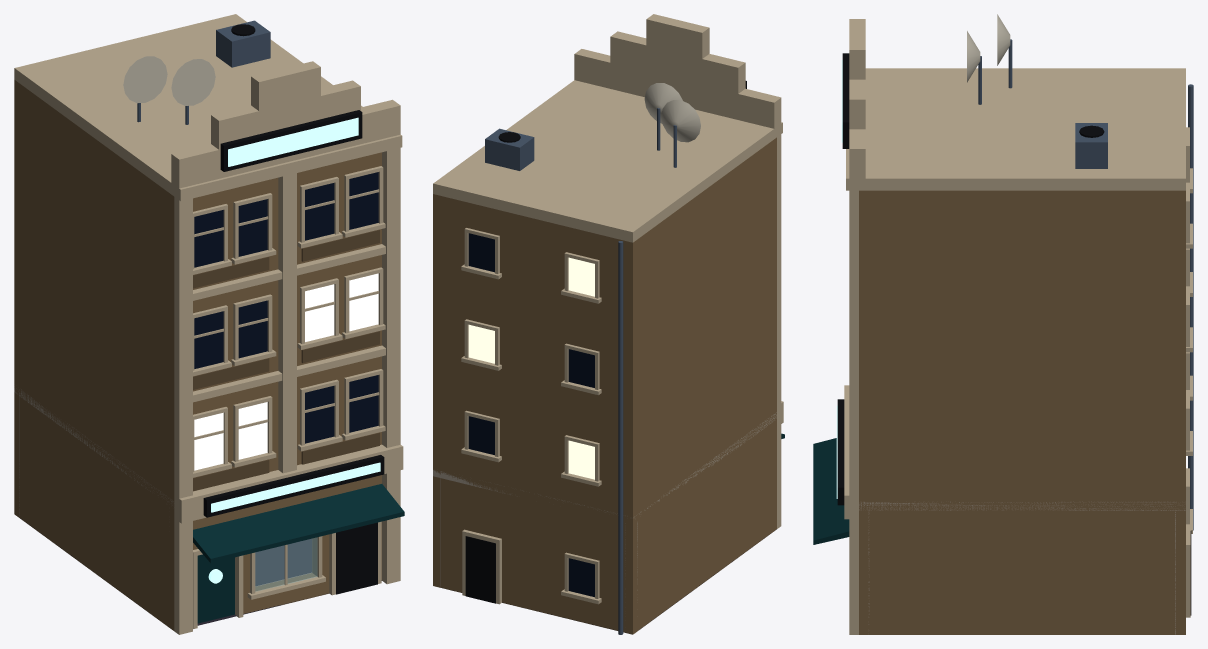
File: row_step.glb
3 renders of one model, left to right at view 1: azimuth 30°, elevation 25°; view 2: azimuth 150°, elevation 25°; view 3: azimuth 270°, elevation 25°, orthographic. The views are drawn at different scales.
Visible parts, largest first — view 1: row_step, door_shop_leaf; view 2: row_step; view 3: row_step.
Boxes of the visible parts, bbox=[...] form: row_step: bbox=[14, 14, 404, 634]; door_shop_leaf: bbox=[197, 554, 234, 623]; row_step: bbox=[433, 14, 784, 634]; row_step: bbox=[813, 14, 1193, 634].
Size of the model in its own units: 8 by 18.4 by 11.64.
